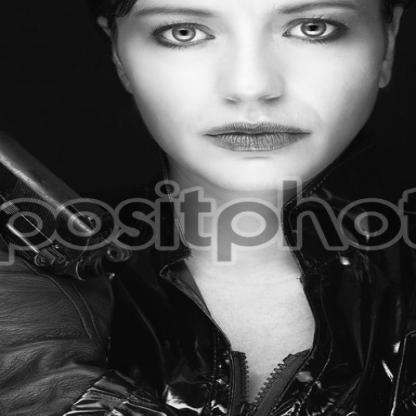gun: (0, 19, 138, 307)
